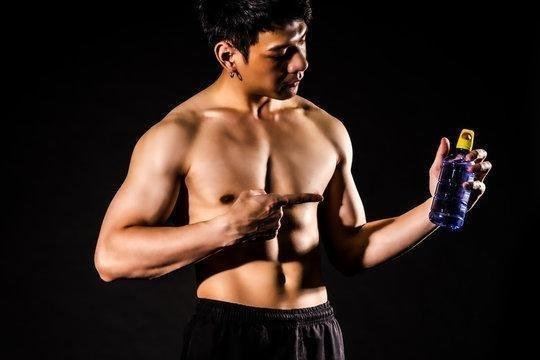gym bottle: (429, 129, 490, 229)
